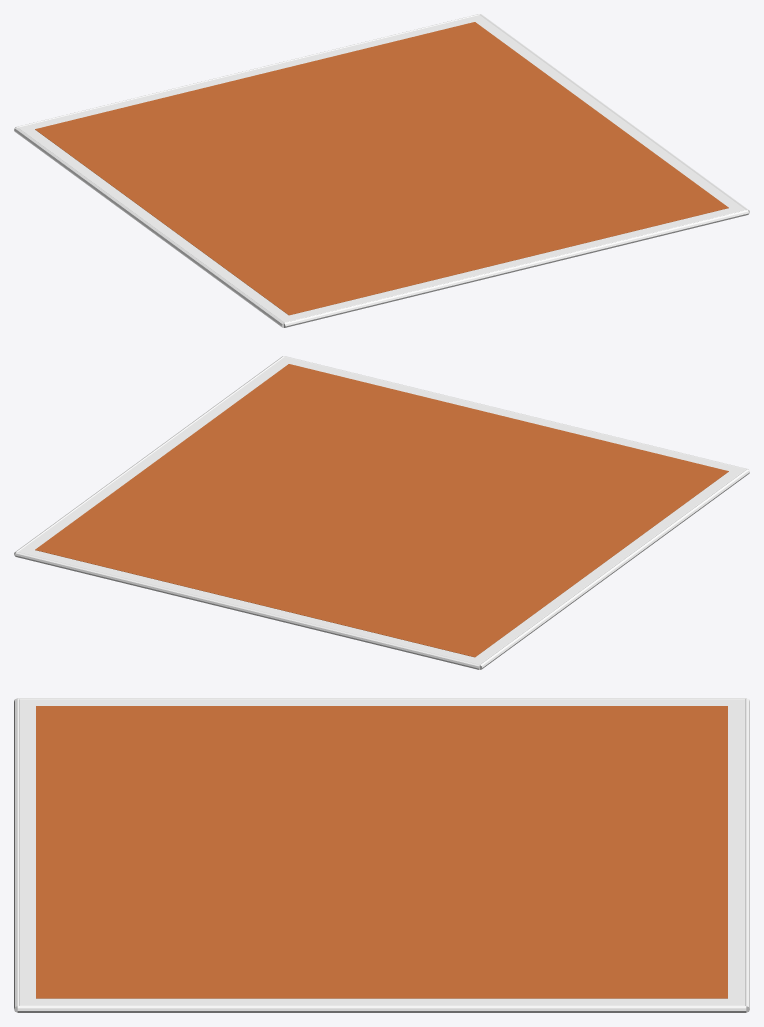
Rendered from play-rug.glb.
The picture shows the model from 3 angles, top to bottom: view 1: azimuth 30°, elevation 25°; view 2: azimuth 150°, elevation 25°; view 3: azimuth 270°, elevation 25°; orthographic projection. The views are drawn at different scales.
Visible parts, largest first — view 1: play-rug.accent, play-rug.tint; view 2: play-rug.accent, play-rug.tint; view 3: play-rug.accent, play-rug.tint.
Boxes of the visible parts, x1=… form: play-rug.accent: x1=35, y1=22, x2=728, y2=315; play-rug.tint: x1=14, y1=14, x2=749, y2=327; play-rug.accent: x1=35, y1=364, x2=728, y2=657; play-rug.tint: x1=14, y1=356, x2=749, y2=669; play-rug.accent: x1=36, y1=706, x2=727, y2=998; play-rug.tint: x1=14, y1=698, x2=749, y2=1012.
Size of the model in its own units: 2 by 0.02 by 2.
